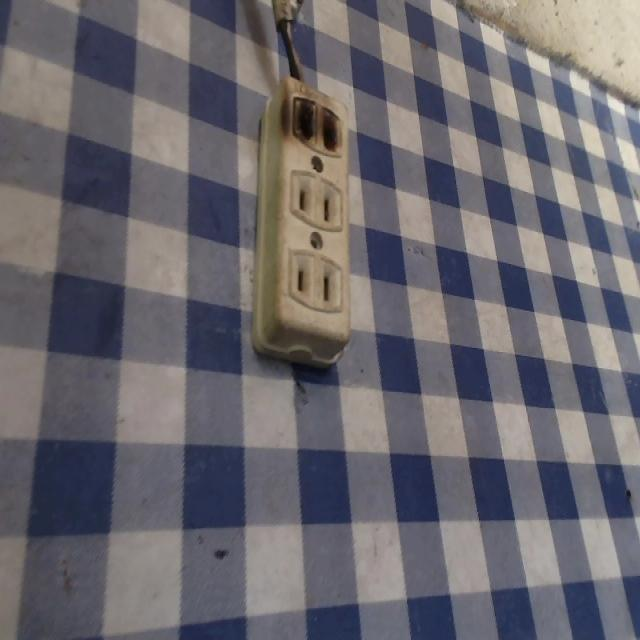-: (284, 90, 350, 158)
